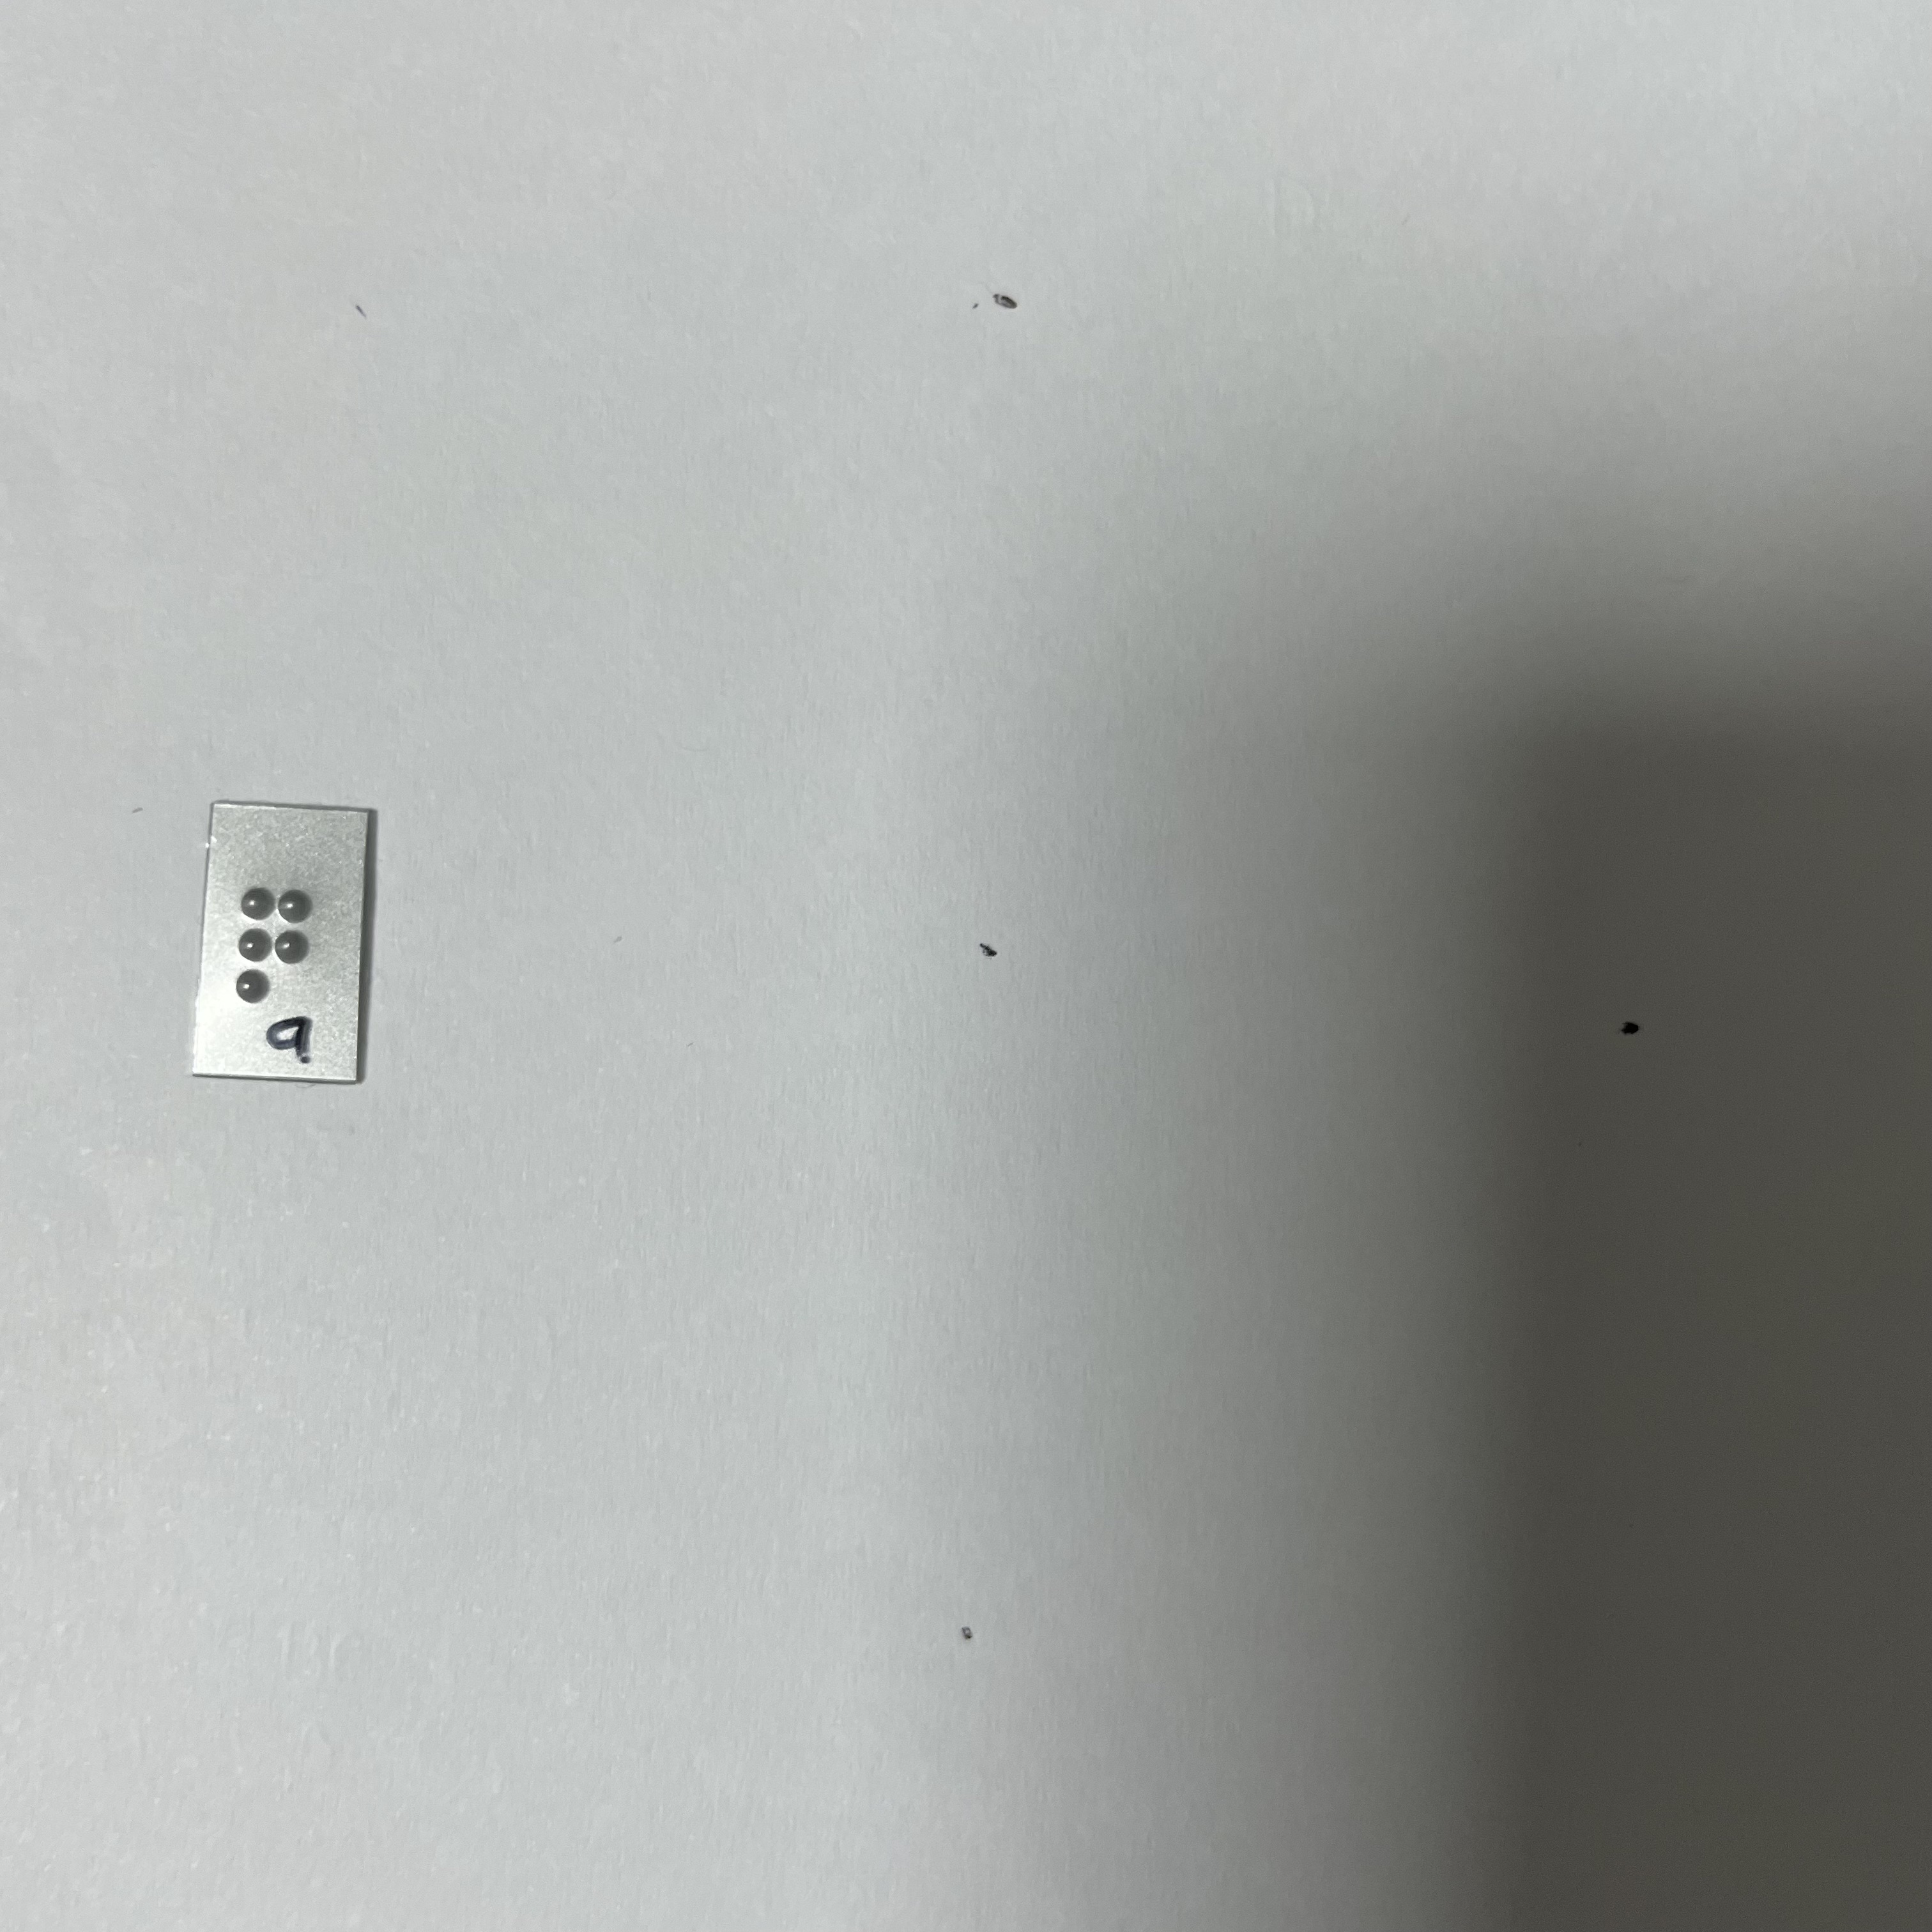q: (220, 869, 332, 1015)
